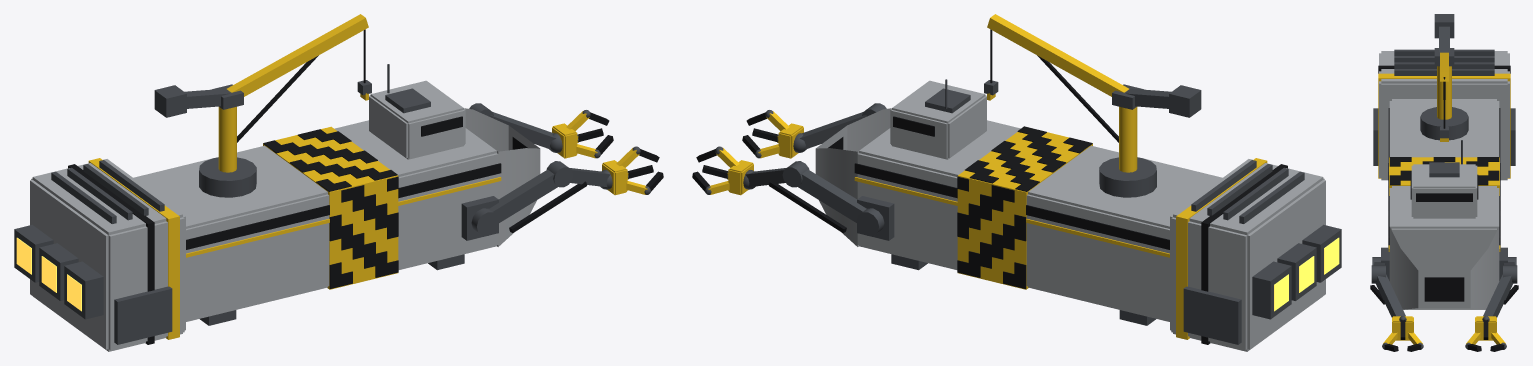
The model's file is salvager.glb.
3 views of the same model, side by side, from view 1: azimuth 30°, elevation 25°; view 2: azimuth 150°, elevation 25°; view 3: azimuth 270°, elevation 25° (orthographic). The views are drawn at different scales.
Parts seen in each view (by area): view 1: salvager_hull, salvager_dark_steel, salvager_hazard_yellow, salvager_black, salvager_drive_glow; view 2: salvager_hull, salvager_dark_steel, salvager_hazard_yellow, salvager_black, salvager_drive_glow; view 3: salvager_hull, salvager_dark_steel, salvager_black, salvager_hazard_yellow.
Boxes of the visible parts, x1=… form: salvager_hull: x1=30, y1=80, x2=540, y2=351; salvager_dark_steel: x1=14, y1=64, x2=650, y2=344; salvager_hazard_yellow: x1=88, y1=14, x2=647, y2=339; salvager_black: x1=68, y1=29, x2=663, y2=344; salvager_drive_glow: x1=16, y1=237, x2=81, y2=311; salvager_hull: x1=815, y1=80, x2=1325, y2=351; salvager_dark_steel: x1=705, y1=79, x2=1341, y2=344; salvager_hazard_yellow: x1=708, y1=14, x2=1267, y2=339; salvager_black: x1=692, y1=29, x2=1287, y2=344; salvager_drive_glow: x1=1274, y1=237, x2=1339, y2=311; salvager_hull: x1=1379, y1=51, x2=1509, y2=309; salvager_dark_steel: x1=1371, y1=14, x2=1517, y2=349; salvager_black: x1=1370, y1=65, x2=1518, y2=351; salvager_hazard_yellow: x1=1378, y1=52, x2=1510, y2=344.
Size of the model in its own units: 25.61 by 10.22 by 6.78.
